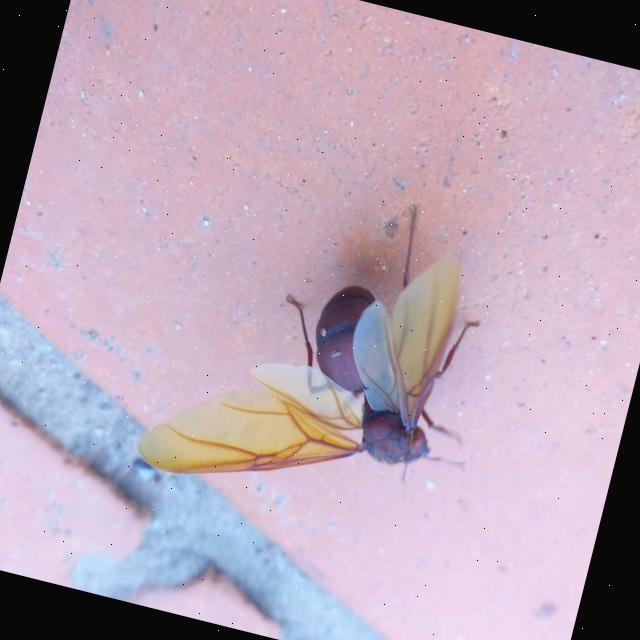Alive-Female-Alate: (131, 152, 524, 542)
